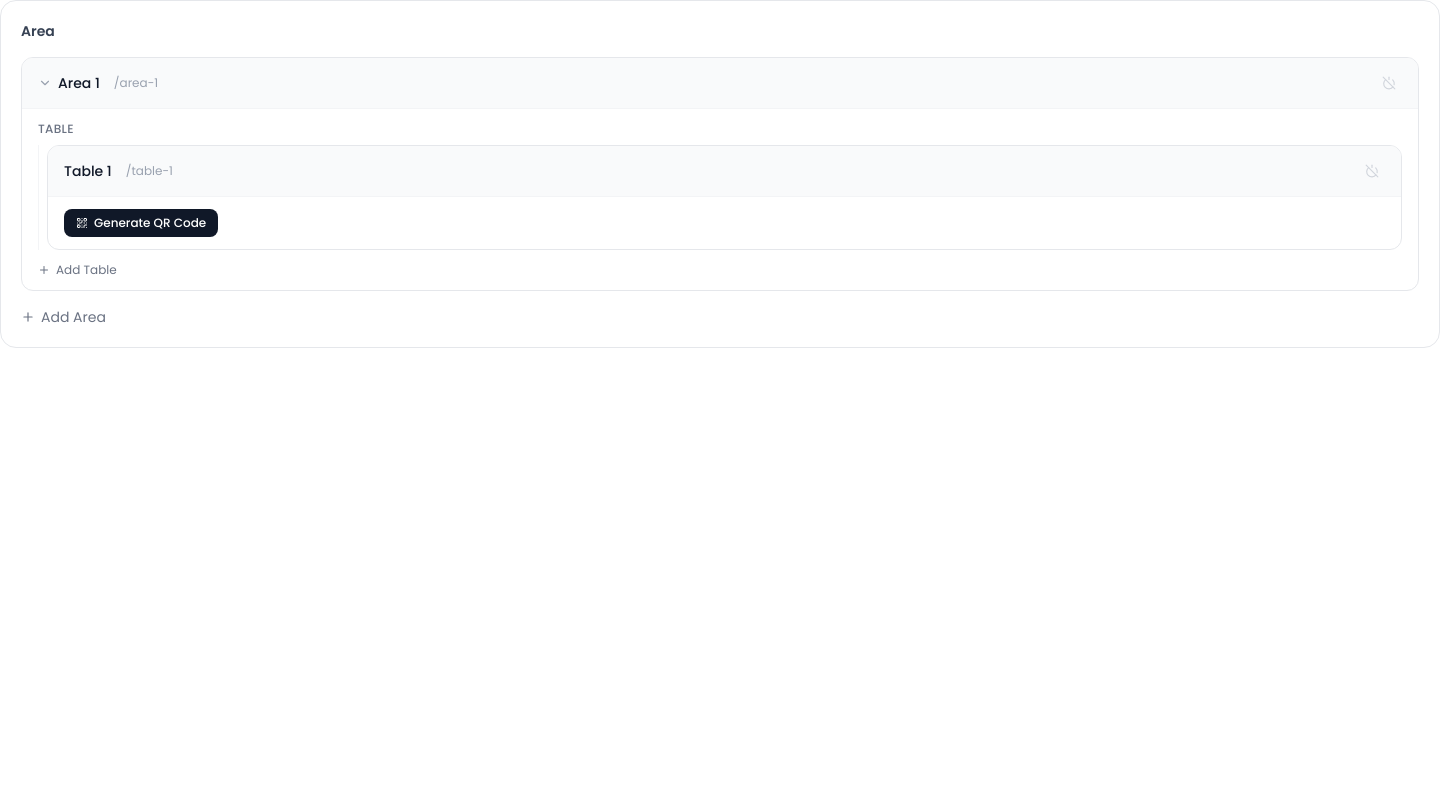
Test: ManagerAdminPanel — Structure tab collapse/expand › generating a QR code on a leaf node immediately shows the QR image/Download/Regenerate controls
Step 1. Click the button "Generate QR Code" → (141, 223), box [64, 209, 218, 237]
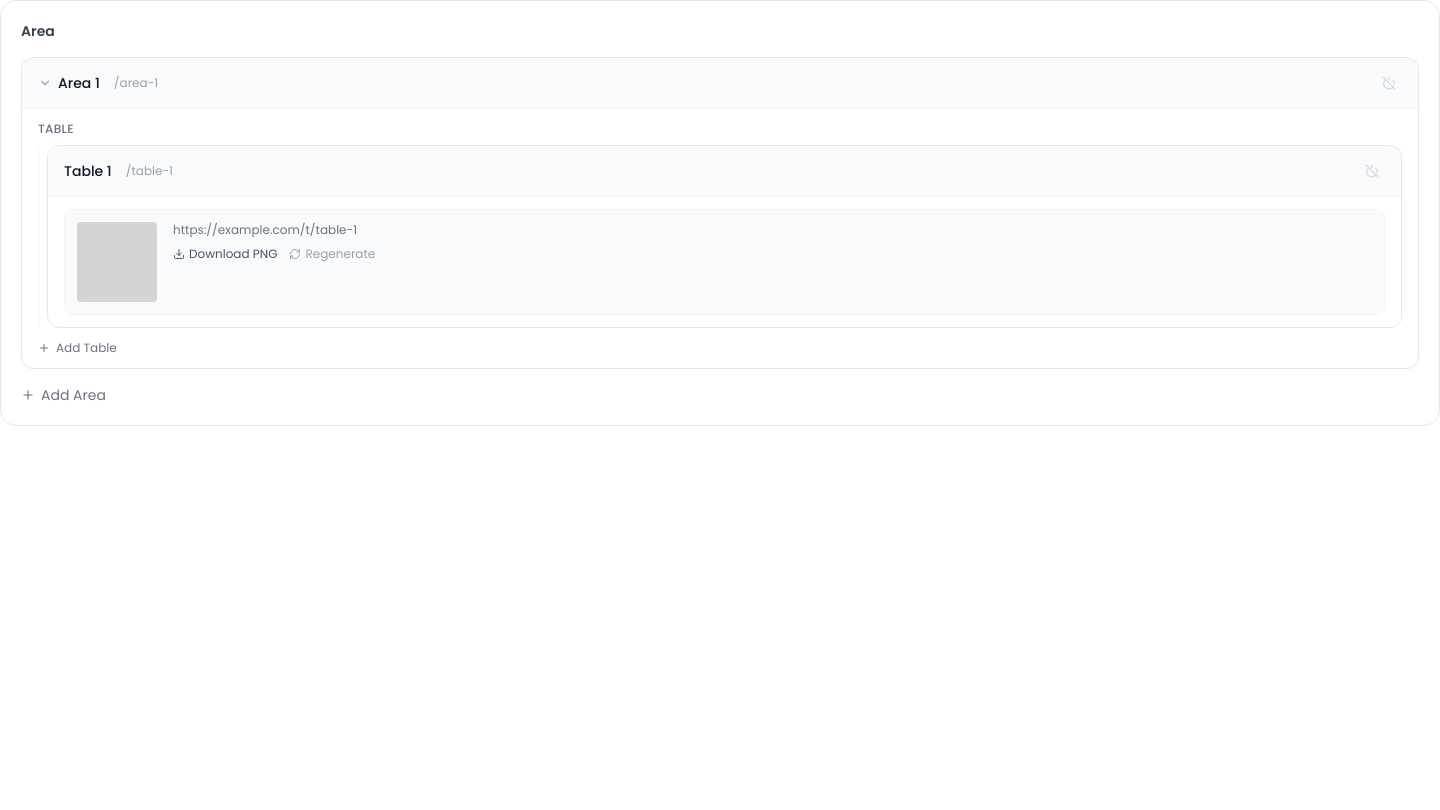
Expected: the button "Download PNG" is shown, [173, 246, 278, 262]
